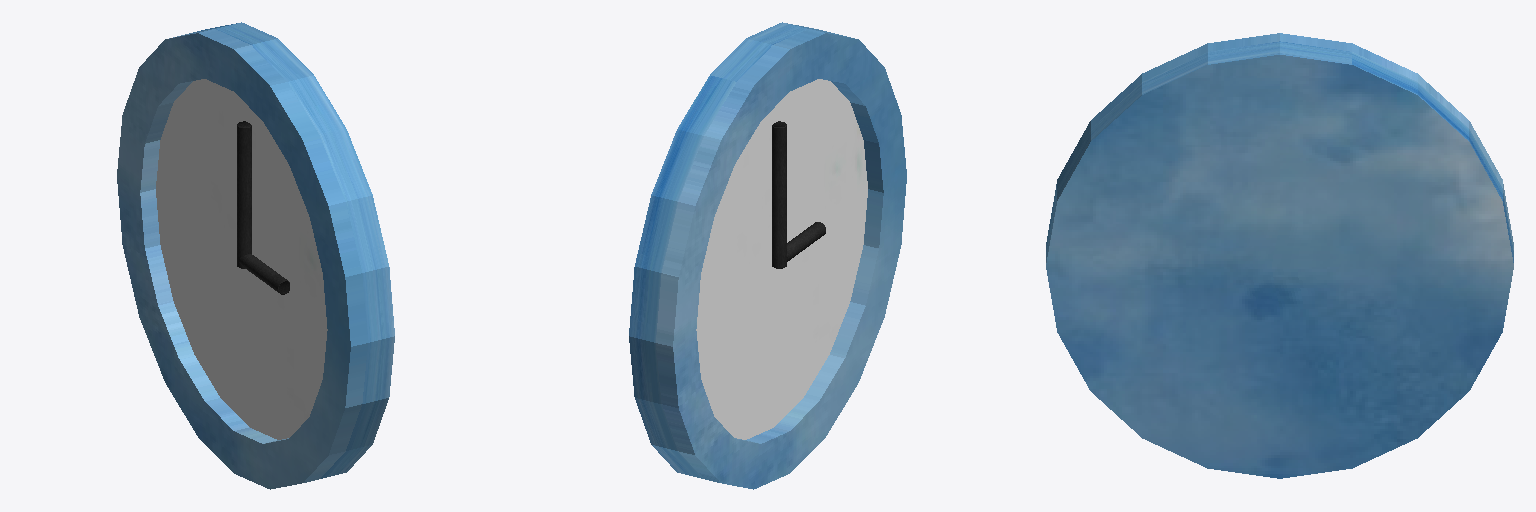
3 views of the same model, side by side, from view 1: azimuth 30°, elevation 25°; view 2: azimuth 150°, elevation 25°; view 3: azimuth 270°, elevation 25° (orthographic).
Visible parts, largest first — view 1: pCylinder2, pDisc1, pCylinder3, pasted__pCylinder3 group7; view 2: pCylinder2, pDisc1, pCylinder3, pasted__pCylinder3 group7; view 3: pCylinder2.
Part boxes in pixels (x1,y1,x2,y2): pCylinder2: (117, 22, 394, 489); pDisc1: (156, 79, 327, 439); pCylinder3: (237, 121, 251, 268); pasted__pCylinder3 group7: (239, 254, 289, 294); pCylinder2: (629, 22, 906, 489); pDisc1: (696, 79, 867, 439); pCylinder3: (772, 121, 786, 268); pasted__pCylinder3 group7: (787, 222, 825, 261); pCylinder2: (1046, 33, 1513, 478).
Bounding box in the file's own units: 0.3268 × 3 × 3.
3 materials, 3 textured.